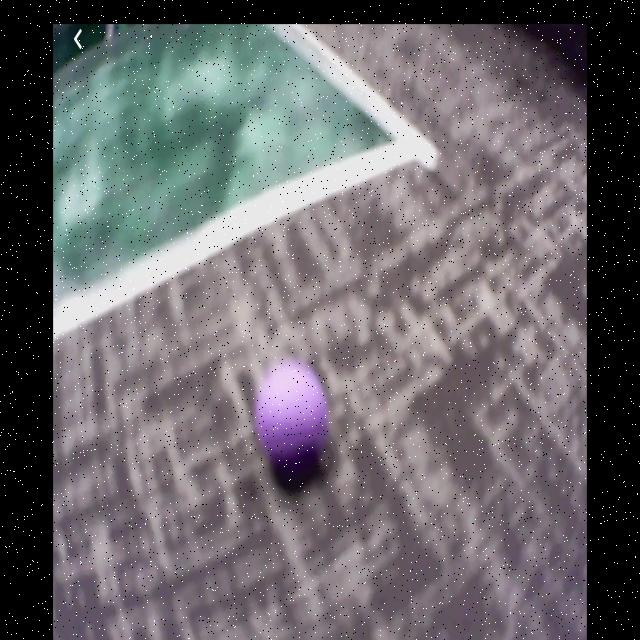ball: (255, 362, 328, 472)
